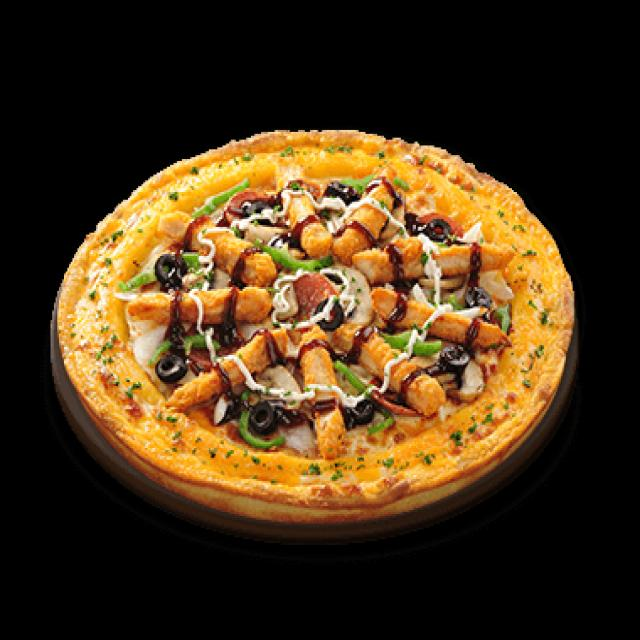Wet Waste: (51, 118, 582, 532)
